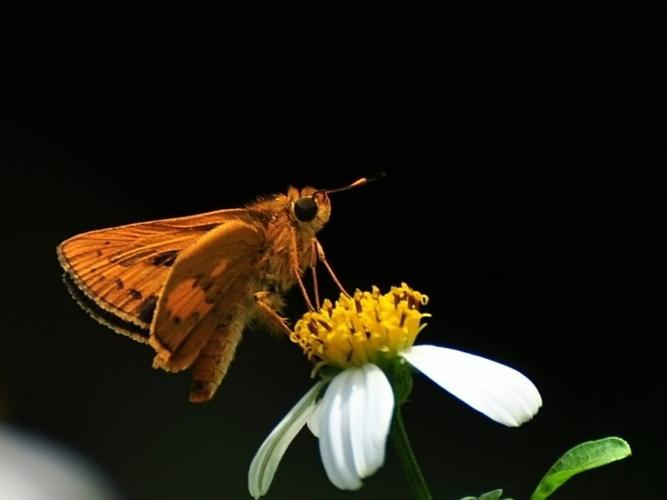Hesperiidae: (48, 163, 389, 405)
